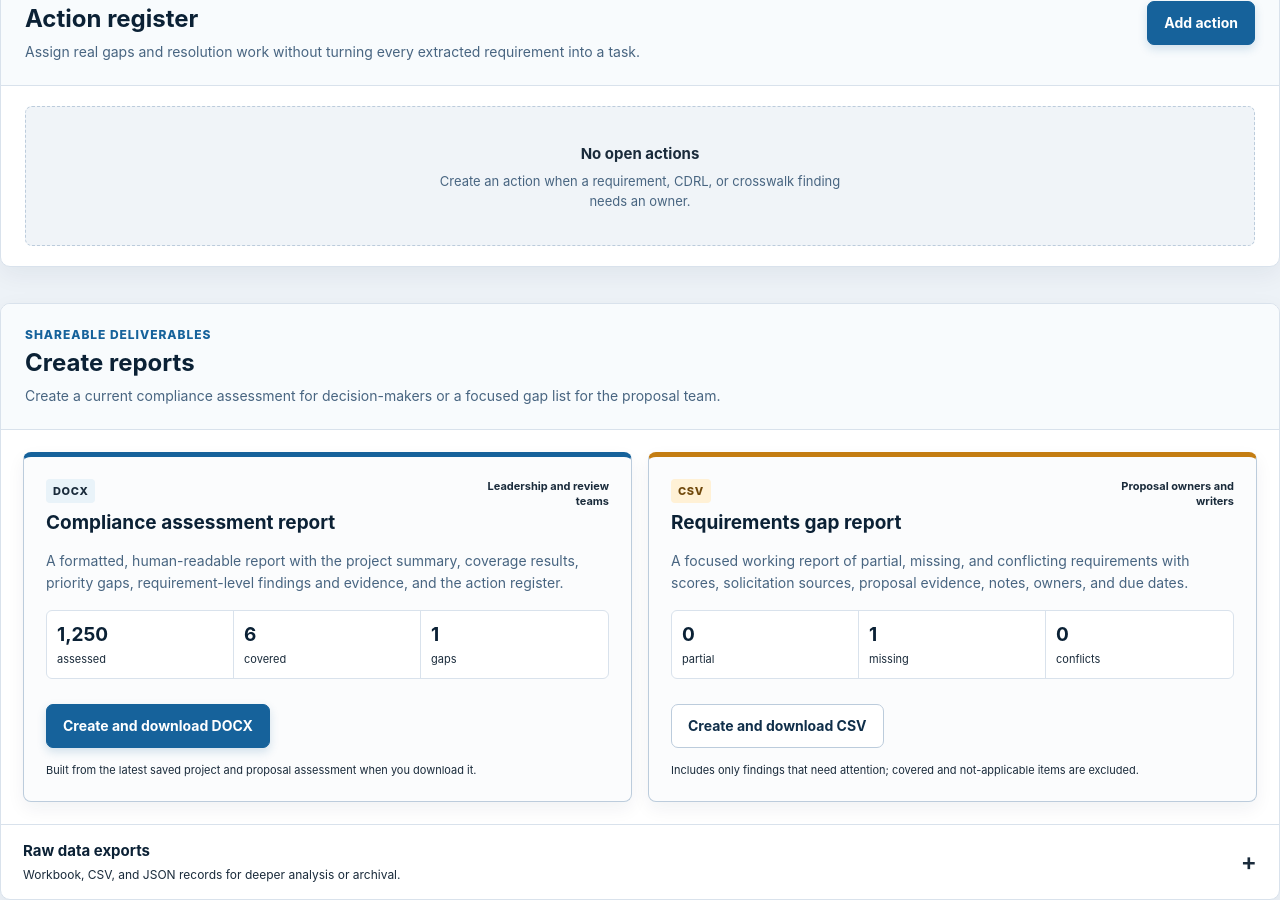
Test: ReportsWorkspace report creation › creates a report server-side, prevents duplicate downloads, and uses the server filename
This screenshot has width=1280, height=900.
(page scrolled)
Click the button "Create and download DOCX" at x=158, y=726, box [46, 704, 270, 748]
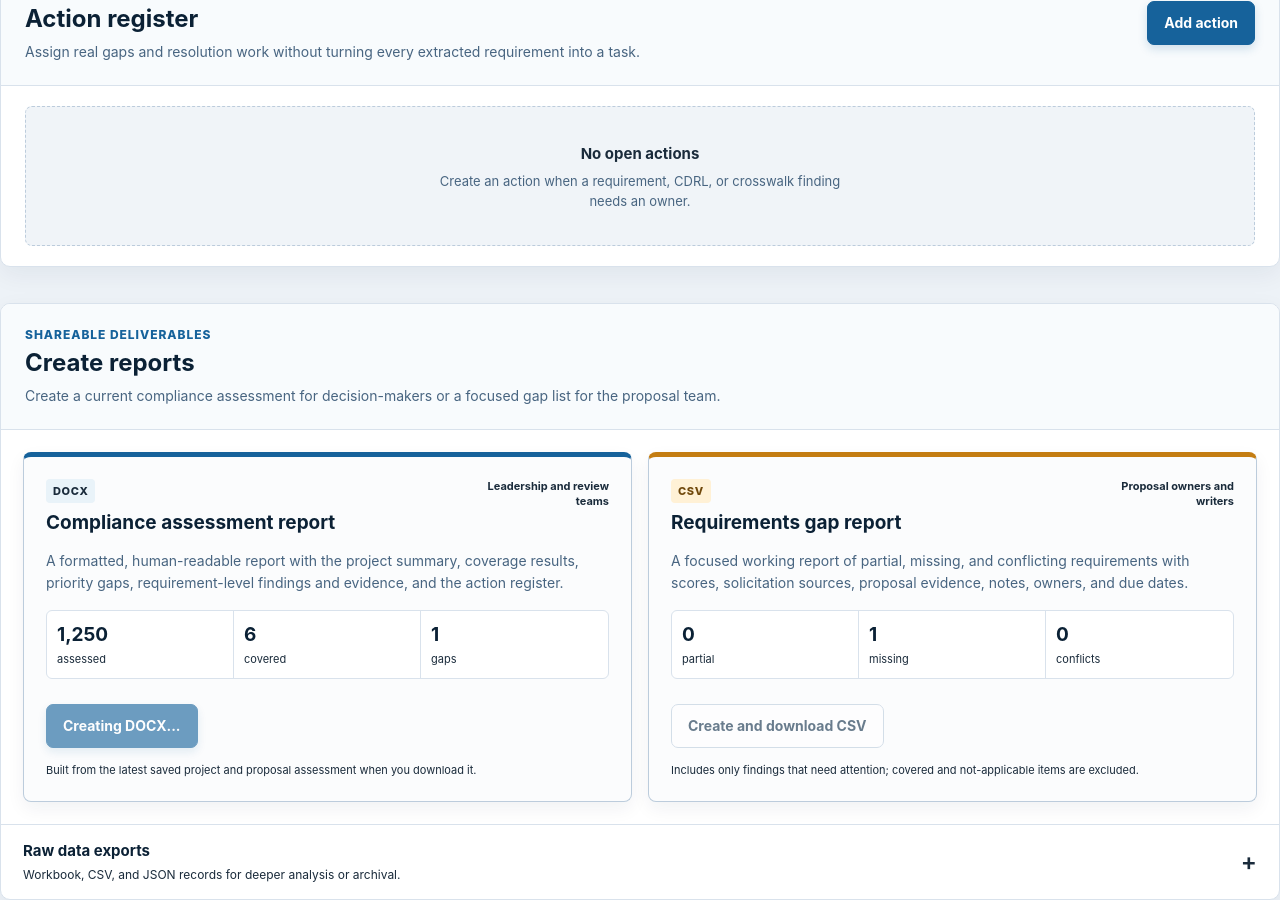
Result: the button "Creating DOCX..." is disabled
Result: the button "Create and download CSV" is disabled at [671, 704, 884, 748]
Click the button "Creating DOCX..." at x=122, y=726, box [46, 704, 198, 748]
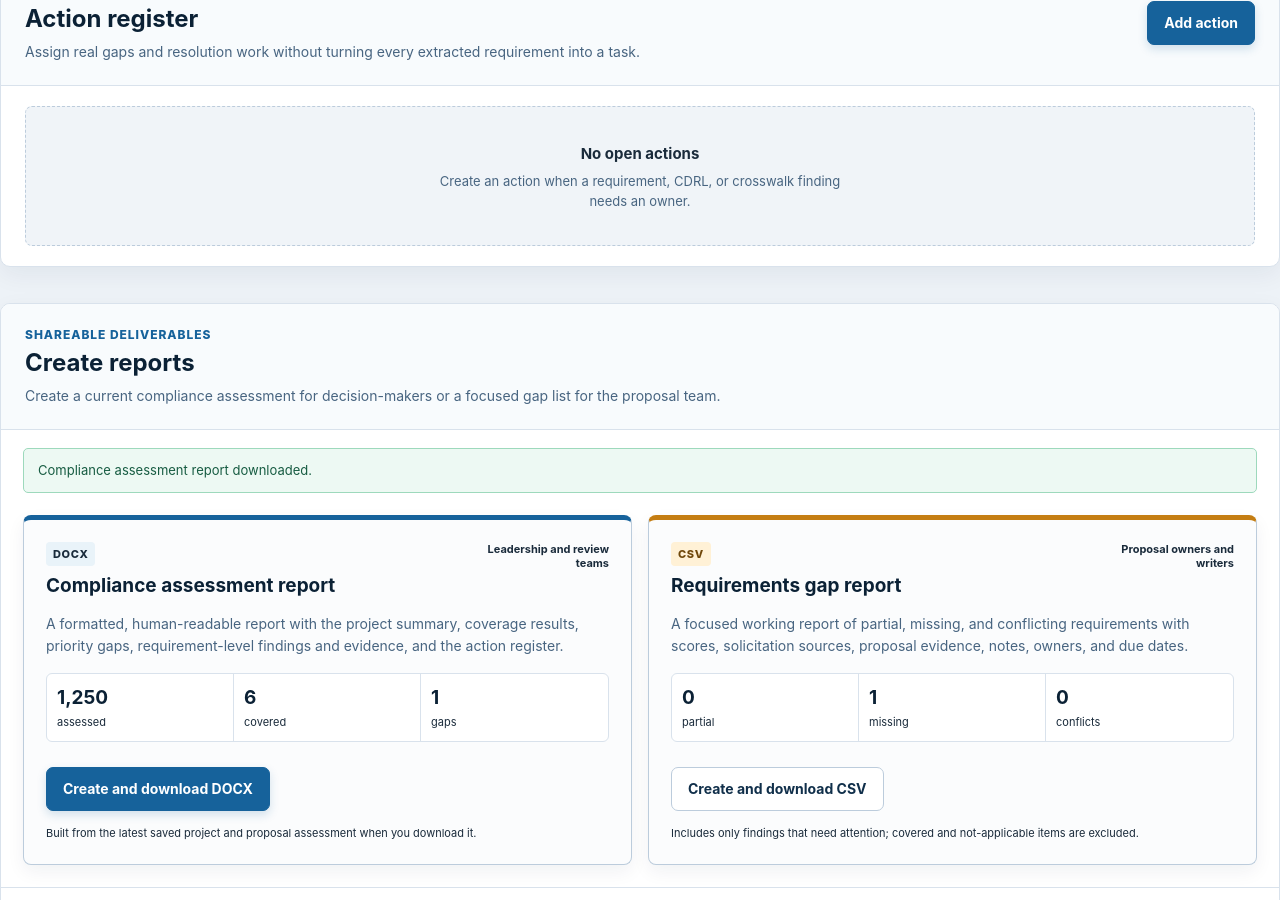
Result: the message shows "Compliance assessment report downloaded" at [38, 462, 312, 478]
